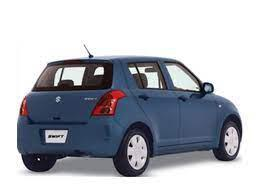Hatchback: (15, 52, 243, 177)
